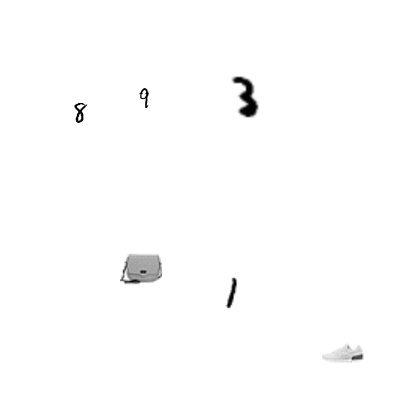1: (211, 272, 253, 314)
3: (218, 69, 274, 125)
8: (65, 98, 93, 126)
9: (130, 82, 158, 110)
Bag: (120, 248, 162, 290)
Sneaker: (322, 331, 364, 373)
